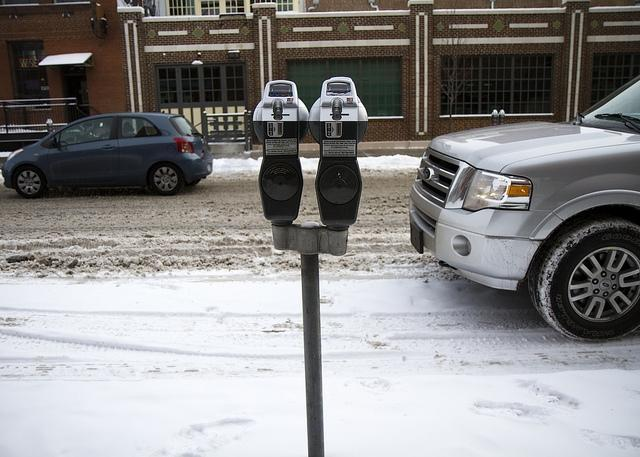car: (396, 71, 640, 340), (3, 115, 215, 195)
